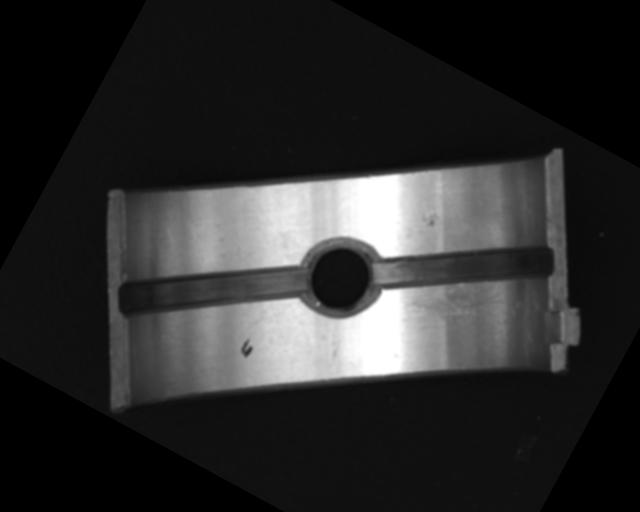blot: (236, 336, 257, 360)
bruise: (417, 205, 443, 231)
gap: (111, 197, 310, 382), (369, 178, 562, 353)
hole: (291, 225, 392, 329)
nick: (312, 331, 354, 380)
scratch: (399, 250, 509, 353)
